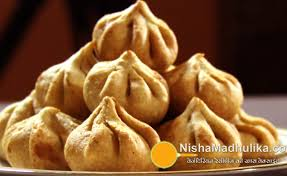modak: (61, 97, 168, 176), (157, 94, 250, 173), (83, 49, 178, 125), (86, 2, 185, 69), (170, 53, 254, 120), (1, 104, 85, 170), (36, 37, 99, 121)
